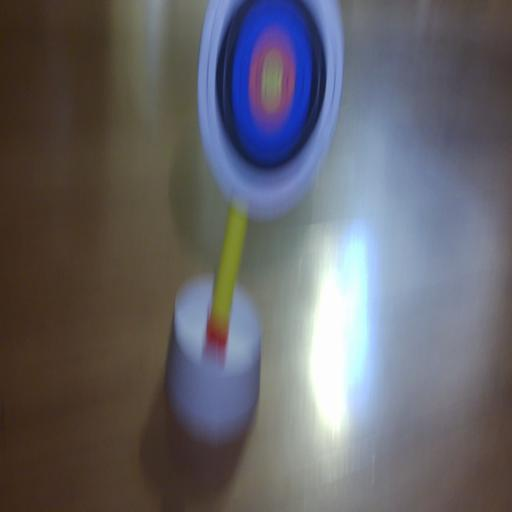target: (198, 0, 343, 218)
